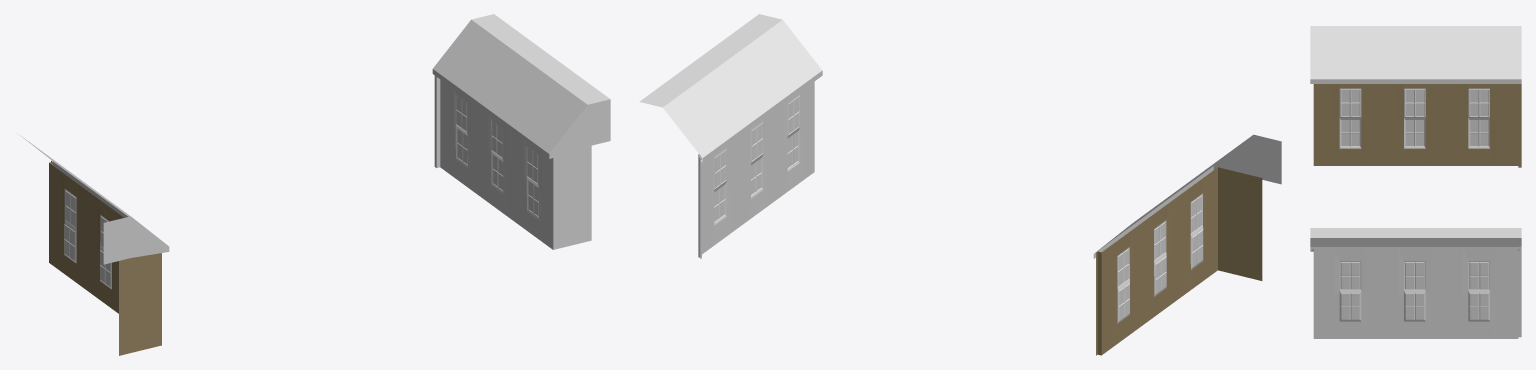
The model's file is Casas1.fbx.
The picture shows the model from 3 angles, left to right: view 1: azimuth 30°, elevation 25°; view 2: azimuth 150°, elevation 25°; view 3: azimuth 270°, elevation 25°; orthographic projection. The views are drawn at different scales.
Visible parts, largest first — view 1: Casa; view 2: Casa; view 3: Casa.
Boxes of the visible parts, x1,y1,x2,y2 form: Casa: (18, 14, 610, 355); Casa: (639, 14, 1281, 355); Casa: (1310, 26, 1521, 338).
Bounding box in the file's own units: 1541 × 402 × 613.
